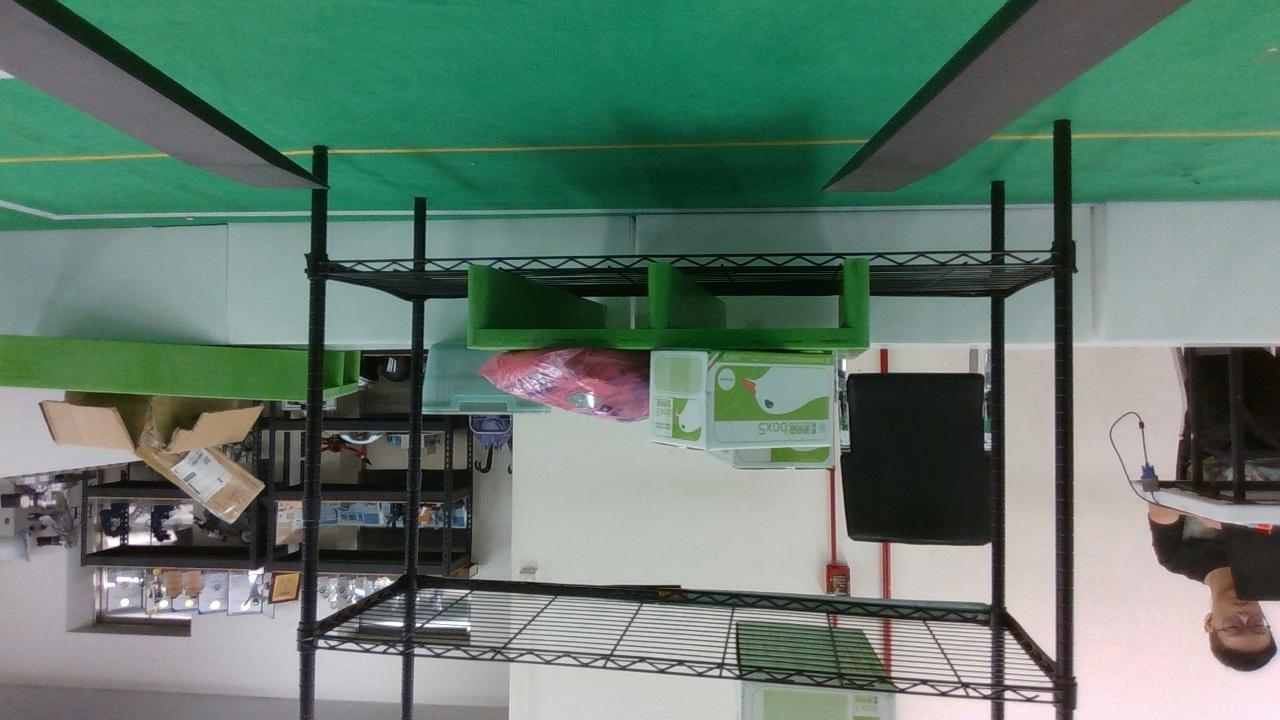Pallet: (461, 256, 876, 351)
